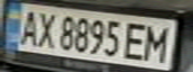5: (103, 17, 127, 57)
8: (54, 11, 78, 52), (72, 15, 93, 53)
9: (87, 16, 109, 56)
A: (15, 7, 42, 47)
E: (121, 20, 151, 62)
M: (139, 21, 175, 63)
X: (33, 9, 60, 50)
